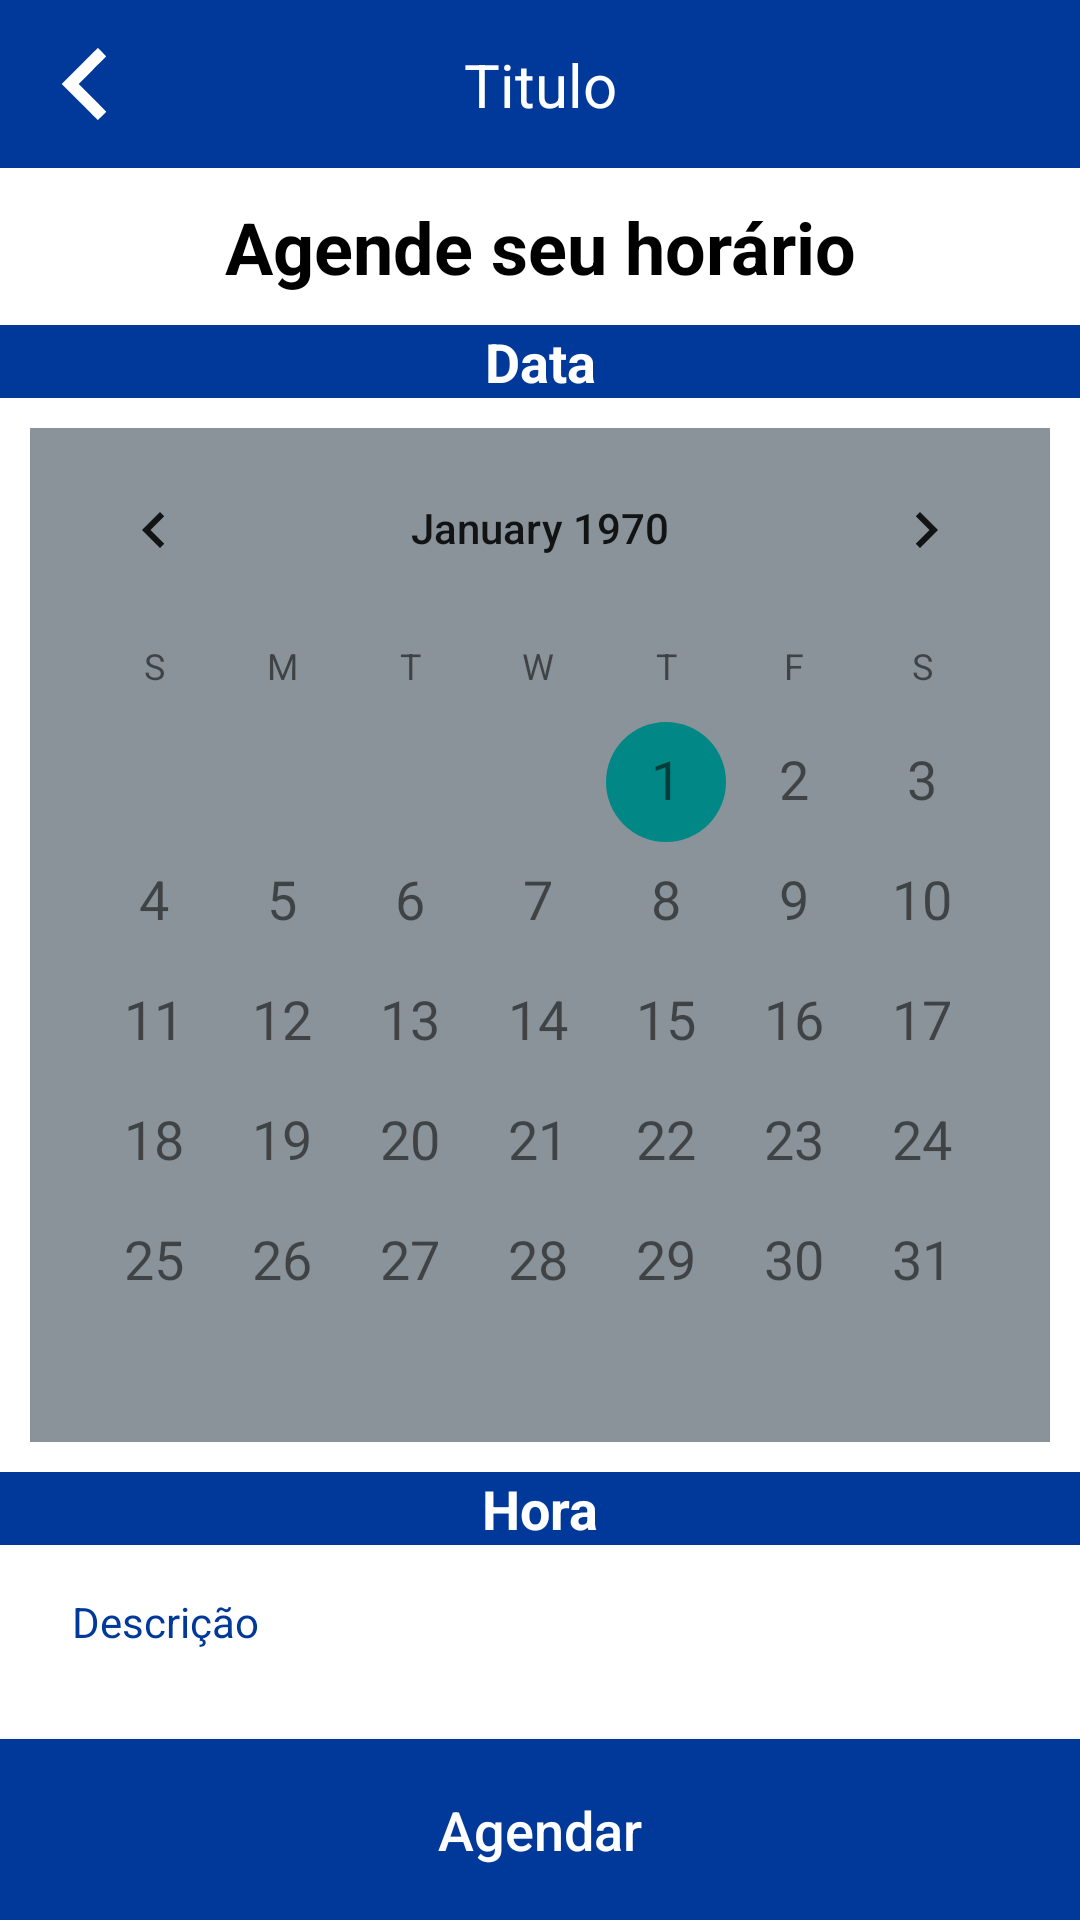

Named icons in this screenshot (1080 x 1920) and their centers, (x,y):
votlar: (84,84)
